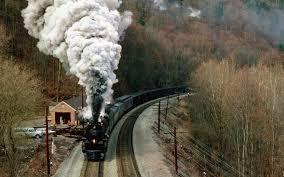smoke: (19, 0, 136, 121)
